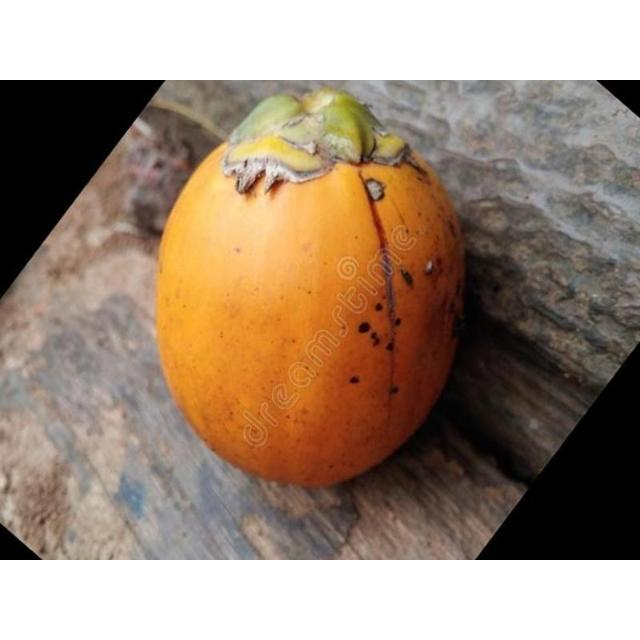good: (156, 89, 467, 490)
